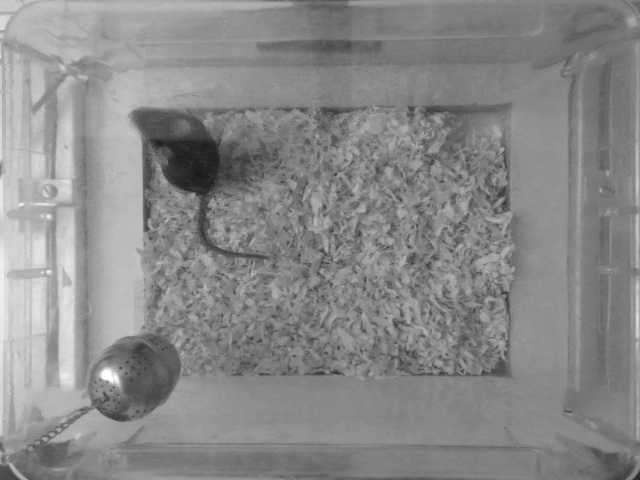mice: (126, 100, 276, 265)
